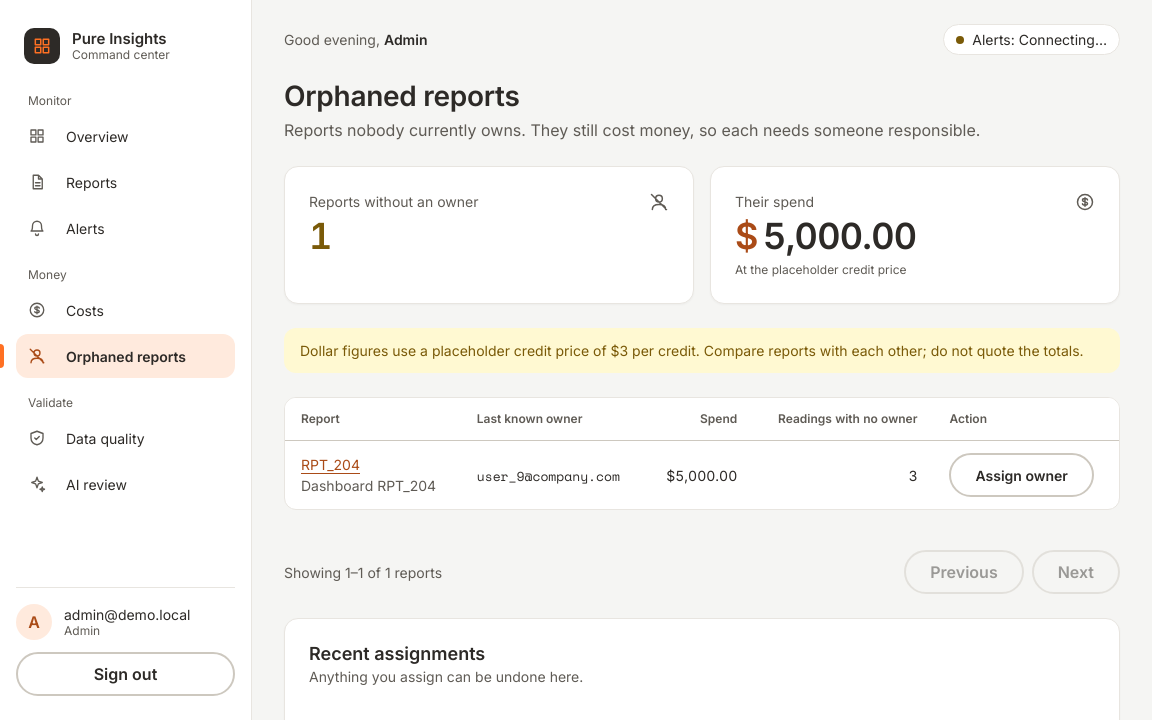
it: orphaned reports › assigning checks the email first, then sends it, confirms, and refreshes the list
Click the button with aria-label "Assign an owner to RPT_204" at (1022, 475), box [950,453,1094,497]
(page scrolled)
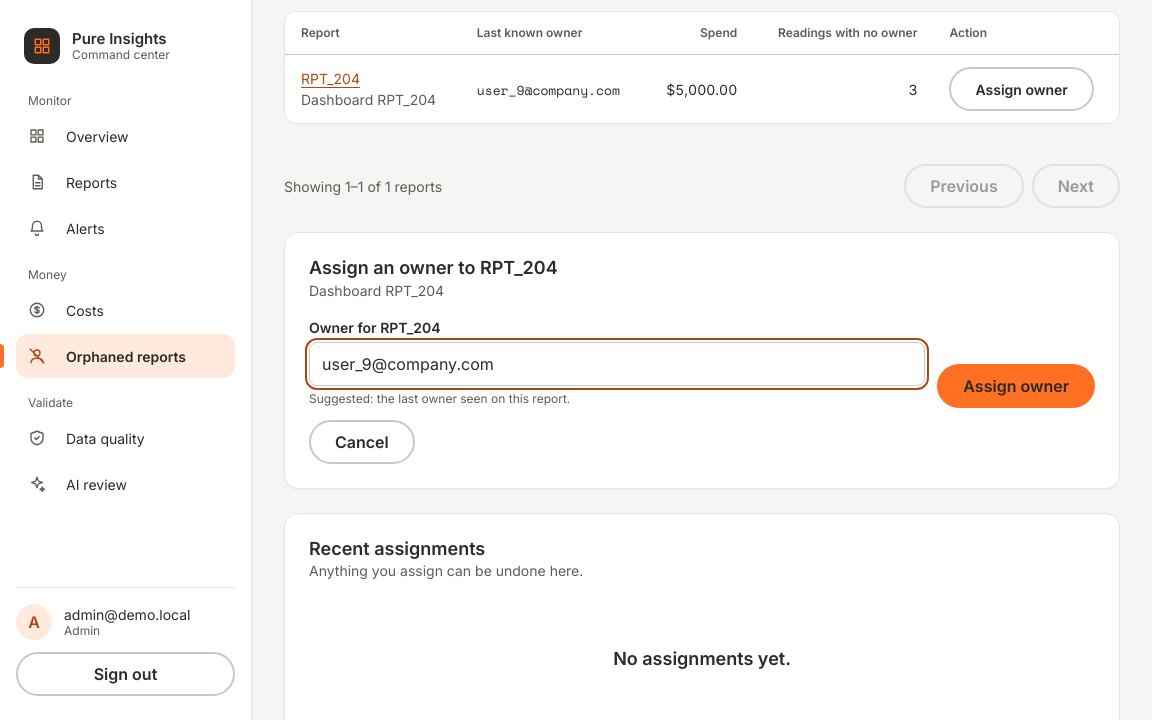
Check: the field labelled "Owner for RPT_204" holds "user_9@company.com"
Replace the text in the field labelled "Owner for RPT_204" with "nope" at (617, 364), box [309,342,925,386]
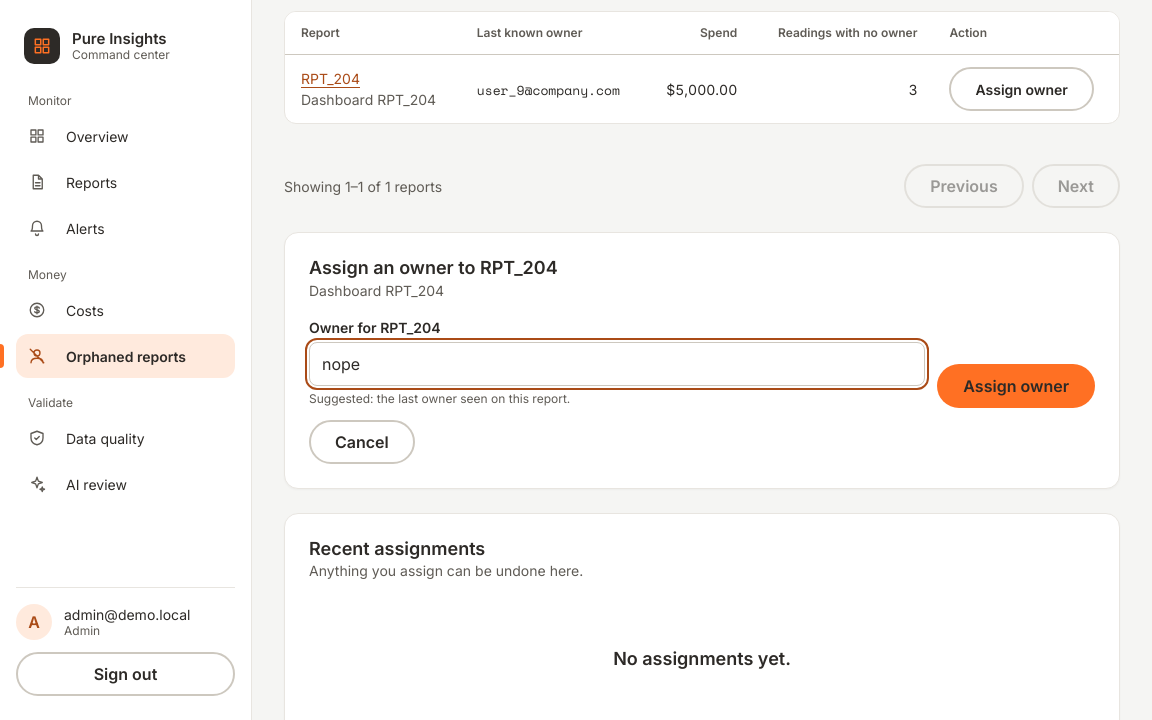
Click the 2nd button "Assign owner" at (1016, 386), box [937,364,1095,408]
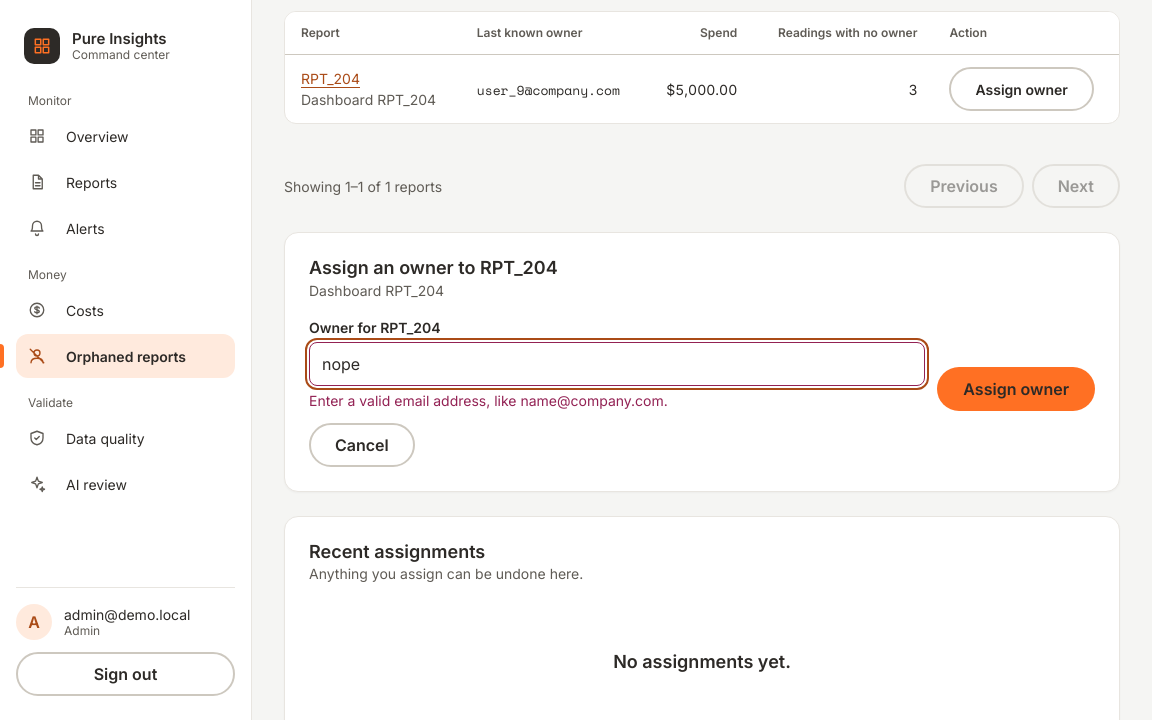
Check: the text "Enter a valid email address, like name@company.com." is shown, box [309,392,668,409]
Replace the text in the field labelled "Owner for RPT_204" with "user_6@company.com" at (617, 364), box [309,342,925,386]
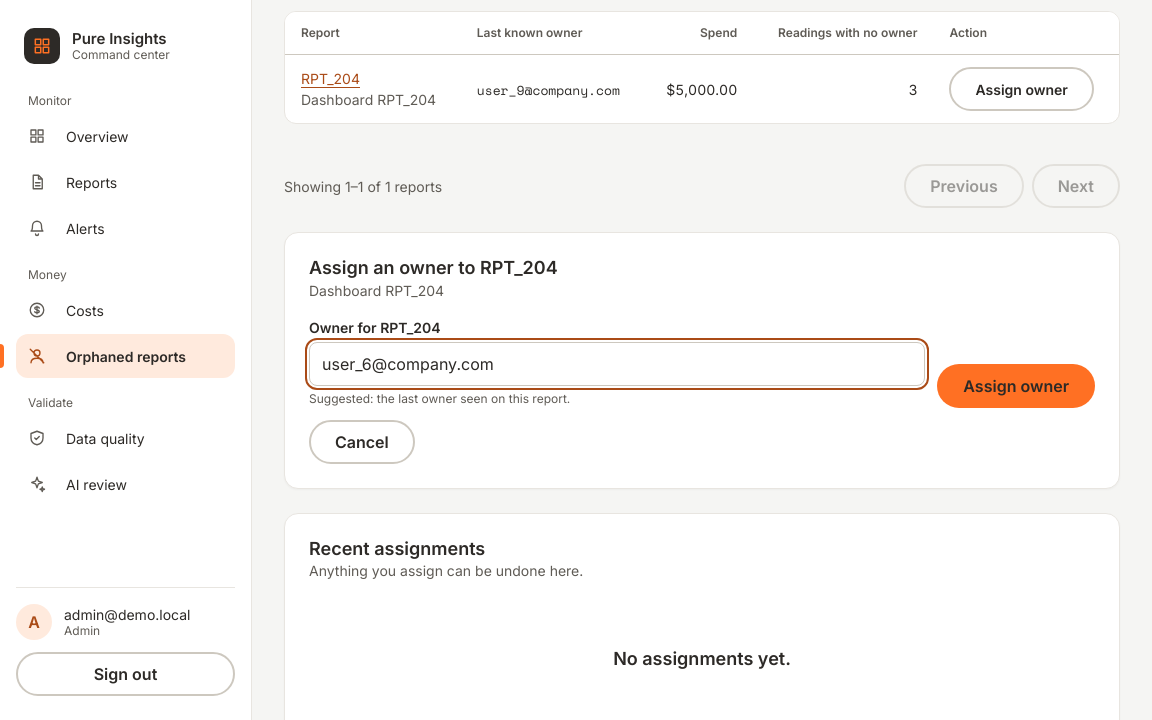
Click the 2nd button "Assign owner" at (1016, 386), box [937,364,1095,408]
(page scrolled)
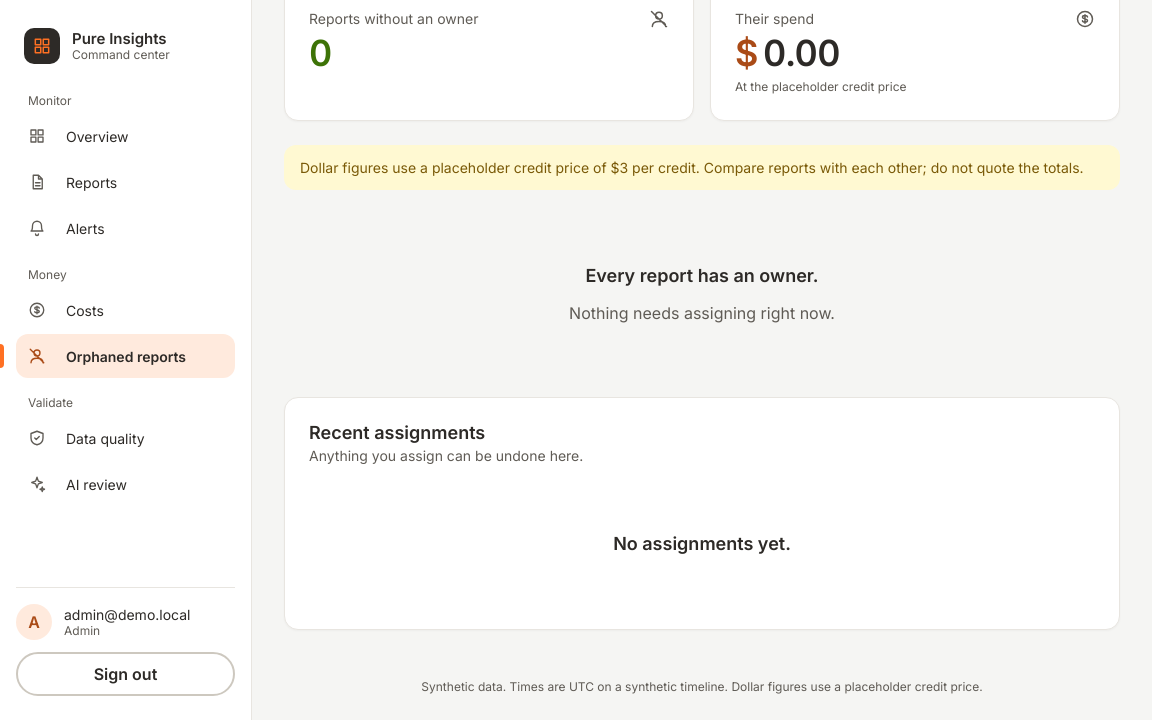
Check: the text "Every report has an owner." is shown, box [585,262,819,289]
